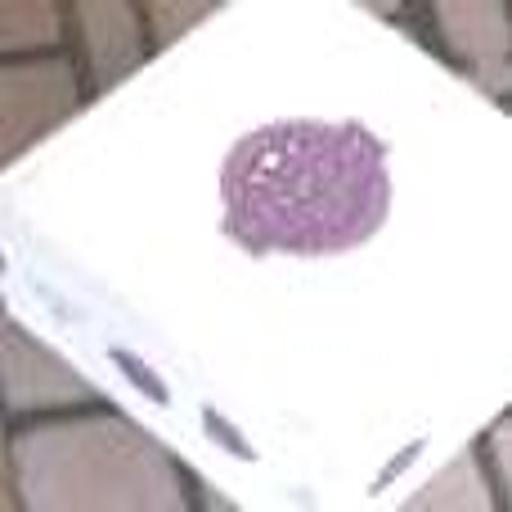Other: (2, 0, 512, 512)
